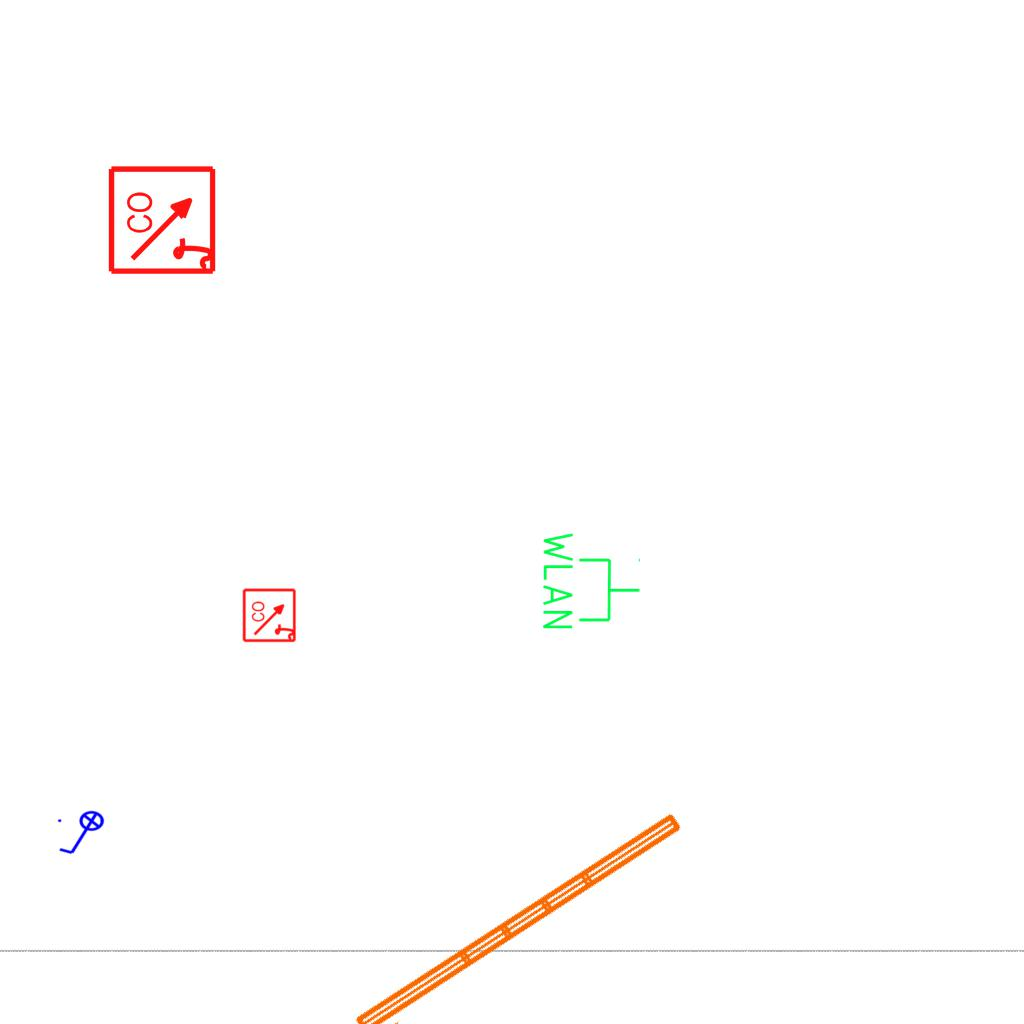Ambulanz_Pendelleuchte_LED: (347, 805, 704, 1024)
Ausschalter_beleuchtet: (55, 810, 111, 858)
ROA_Rauchmelder_optisch_mit_Signalgeber_(Sockelsirene): (107, 163, 220, 276), (242, 587, 298, 643)
WLAN: (539, 528, 643, 633)
